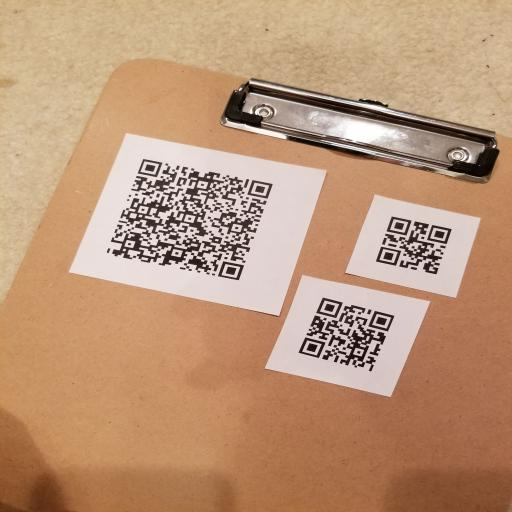QR_CODE: (94, 152, 280, 288), (290, 291, 412, 379), (370, 211, 463, 280)
